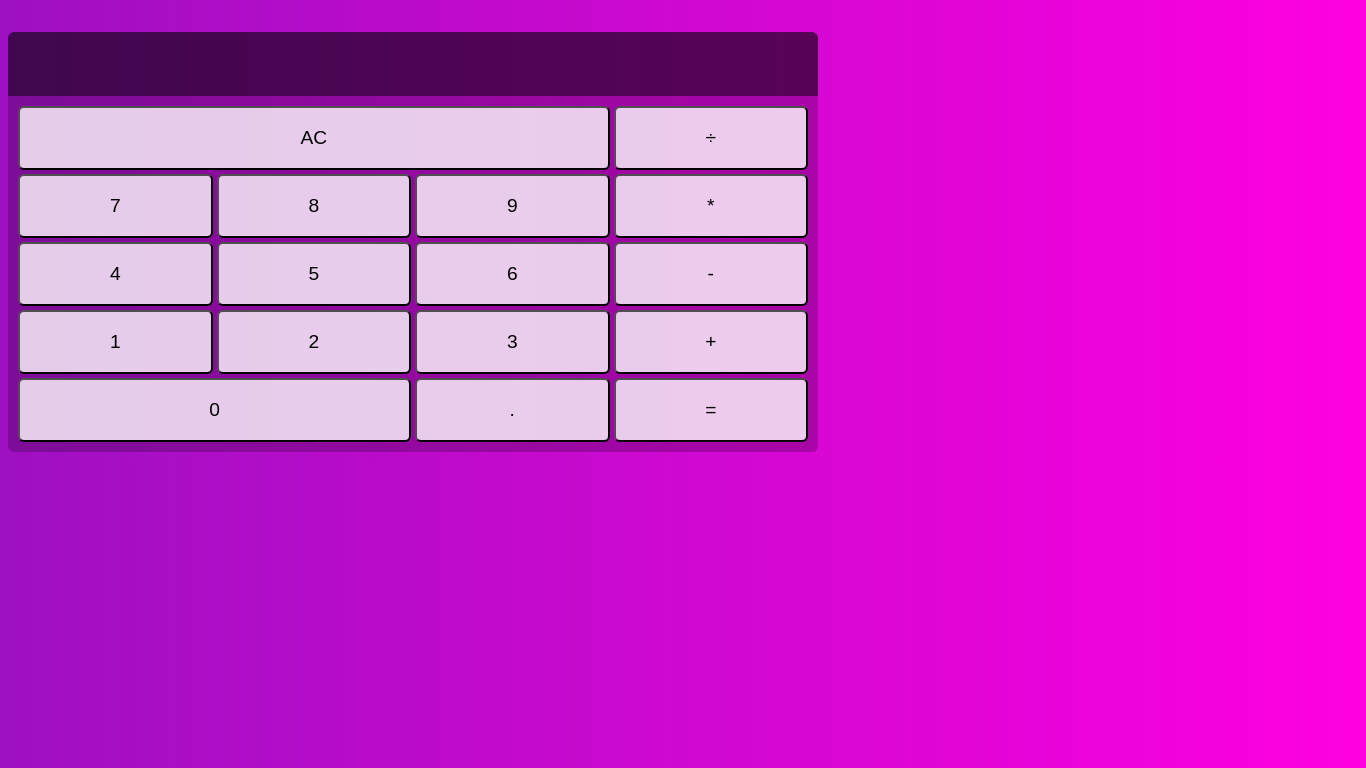
Scenario: Calculator › replaces the chosen function
Click the button "1".
click(115, 342)  # box [18,310,212,374]
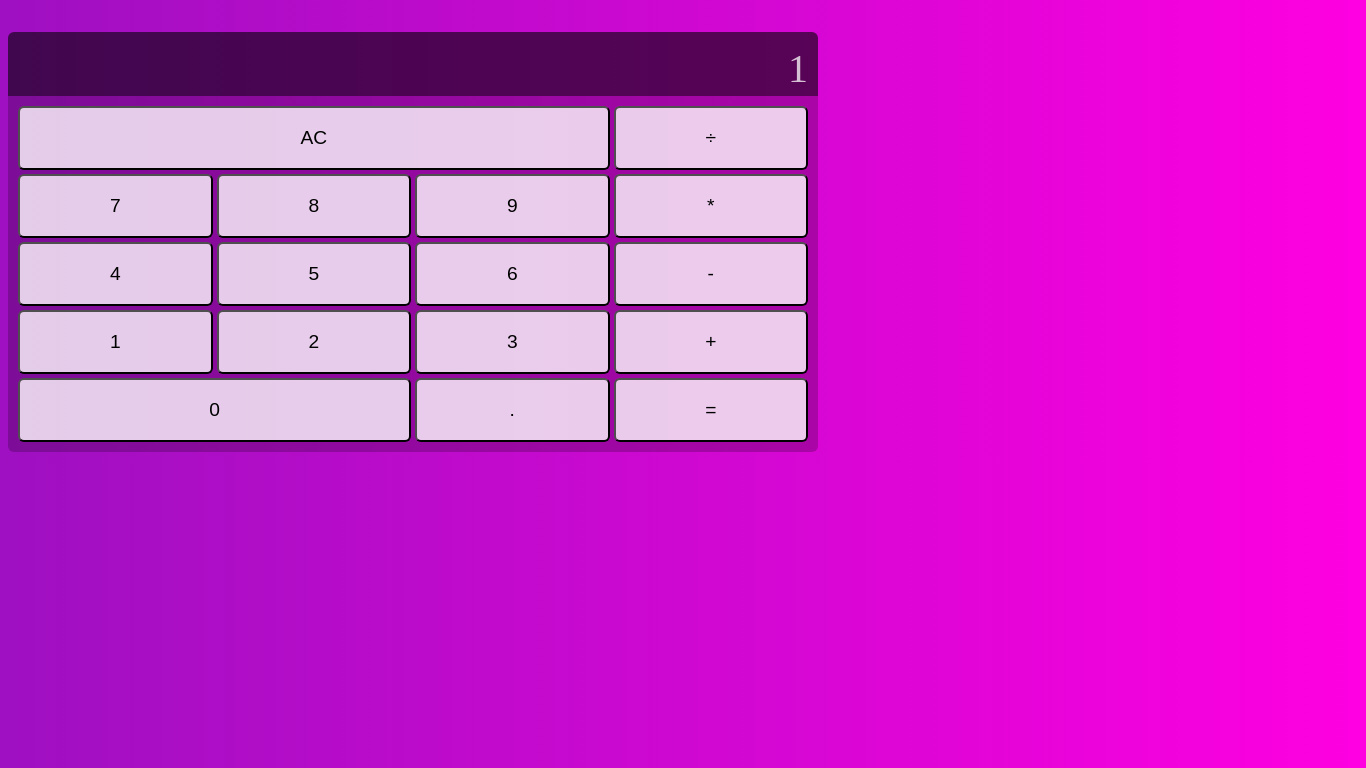
Click the button "+".
click(711, 342)  # box [614,310,808,374]
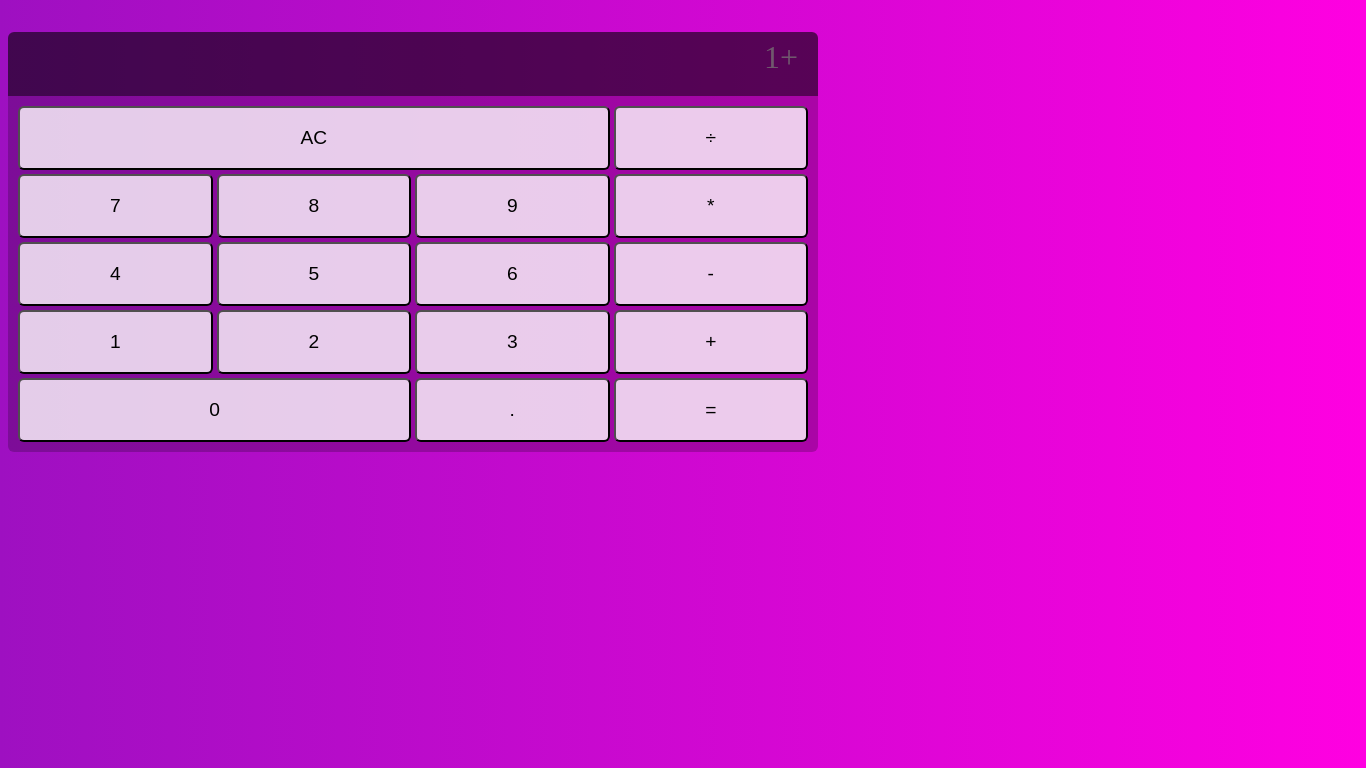
Click the button "*".
click(711, 206)  # box [614,174,808,238]
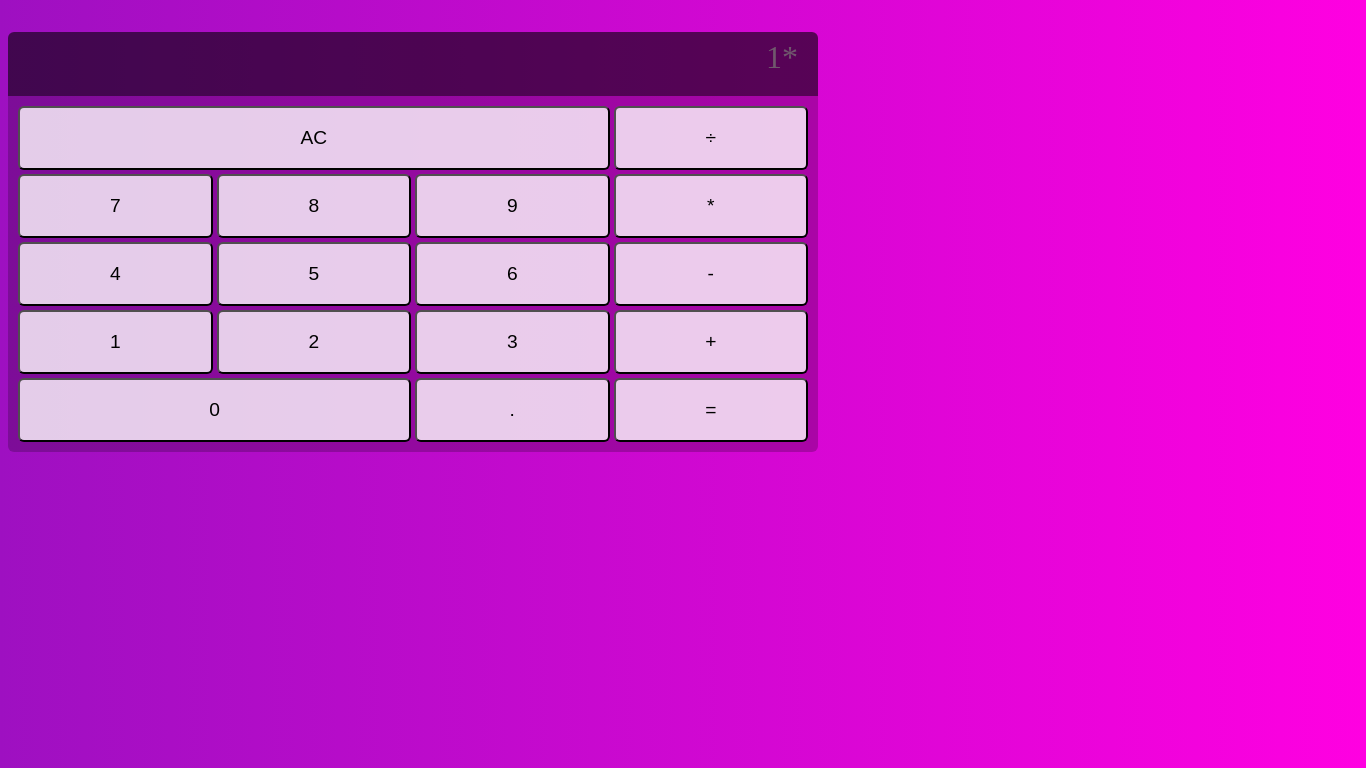
Result: the text "1*" is shown at [766,39,798,75]
